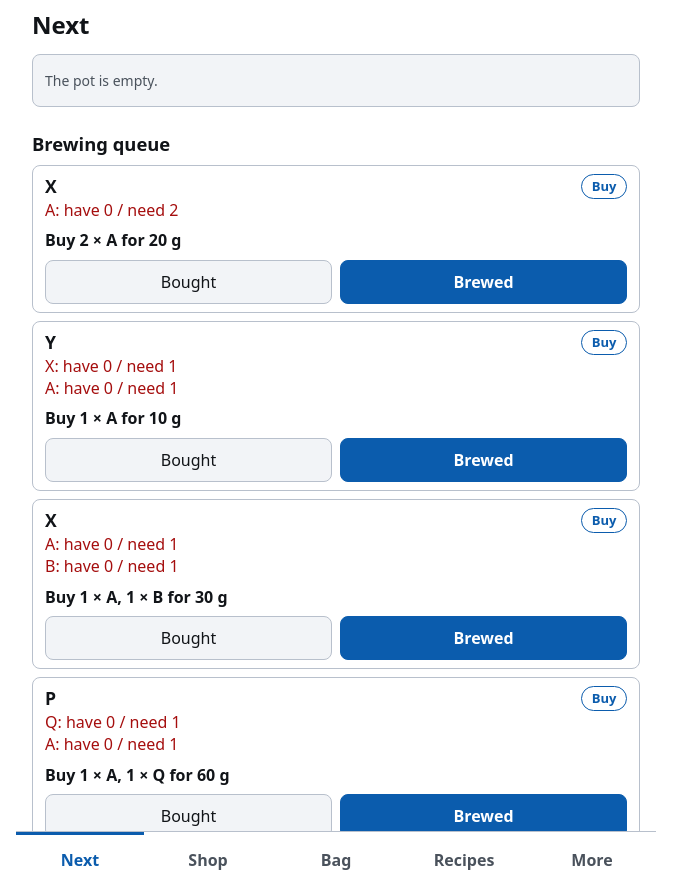
Recipes › toggles done and updates the chip
The width and height of the screenshot is (673, 888).
What coordinates should you click on to do the following:
click the button "Recipes"
I would click on:
 (464, 860)
Its box is x1=400 y1=832 x2=528 y2=887.
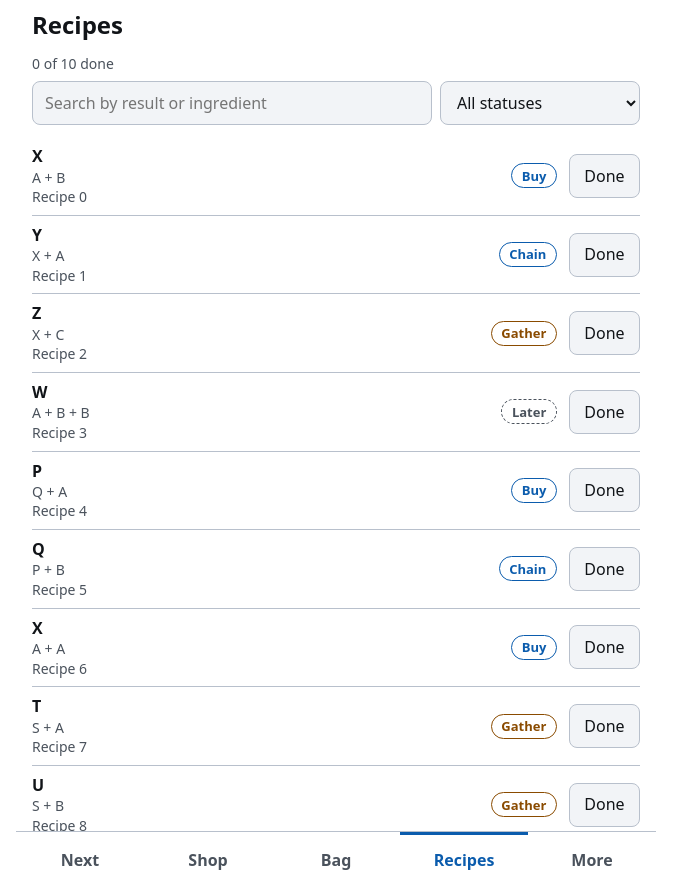
Expected: the 1st text "Buy" is shown, x1=511 y1=164 x2=557 y2=188
What coordinates should you click on to do the following:
click the button with aria-label "Done: X (recipe 0)"
I would click on:
 (604, 176)
Its box is x1=569 y1=154 x2=640 y2=198.
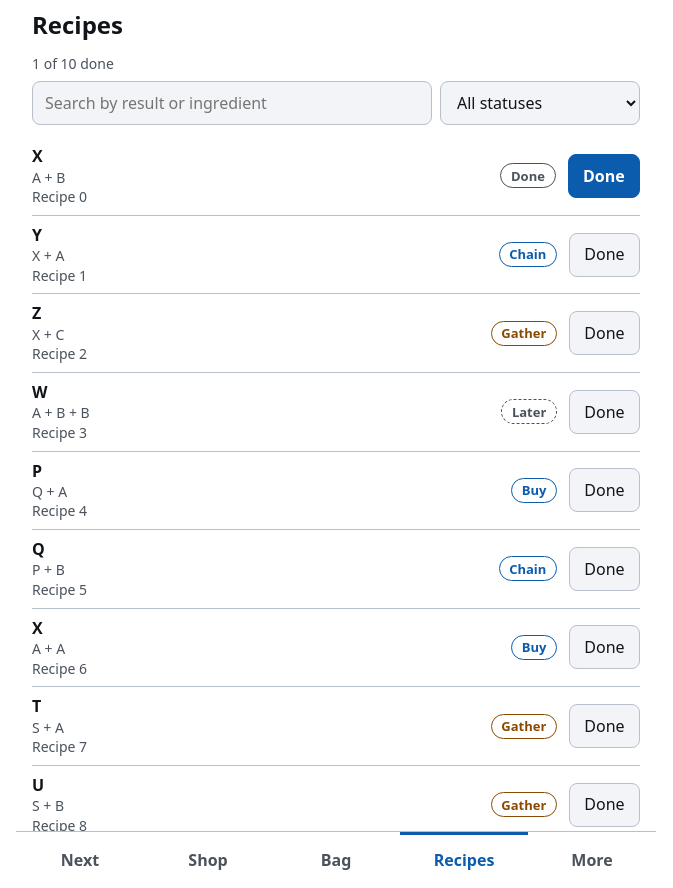
Result: the text "Done" is shown at x1=500 y1=164 x2=556 y2=188
